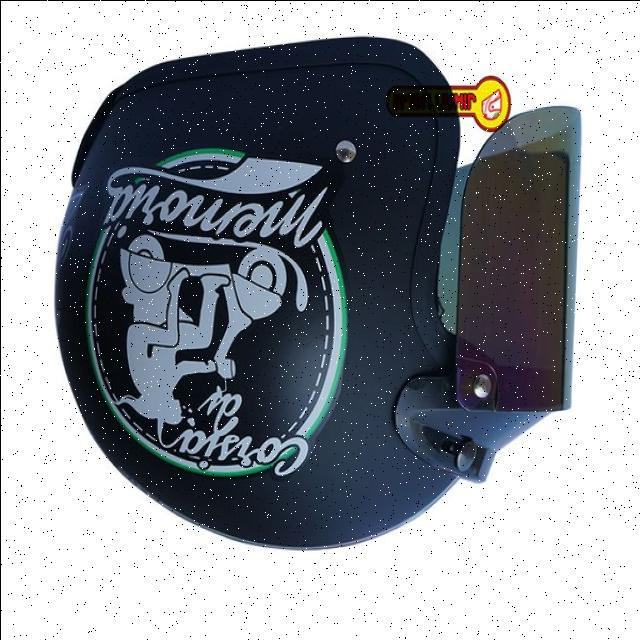Helmet: (51, 32, 581, 549)
